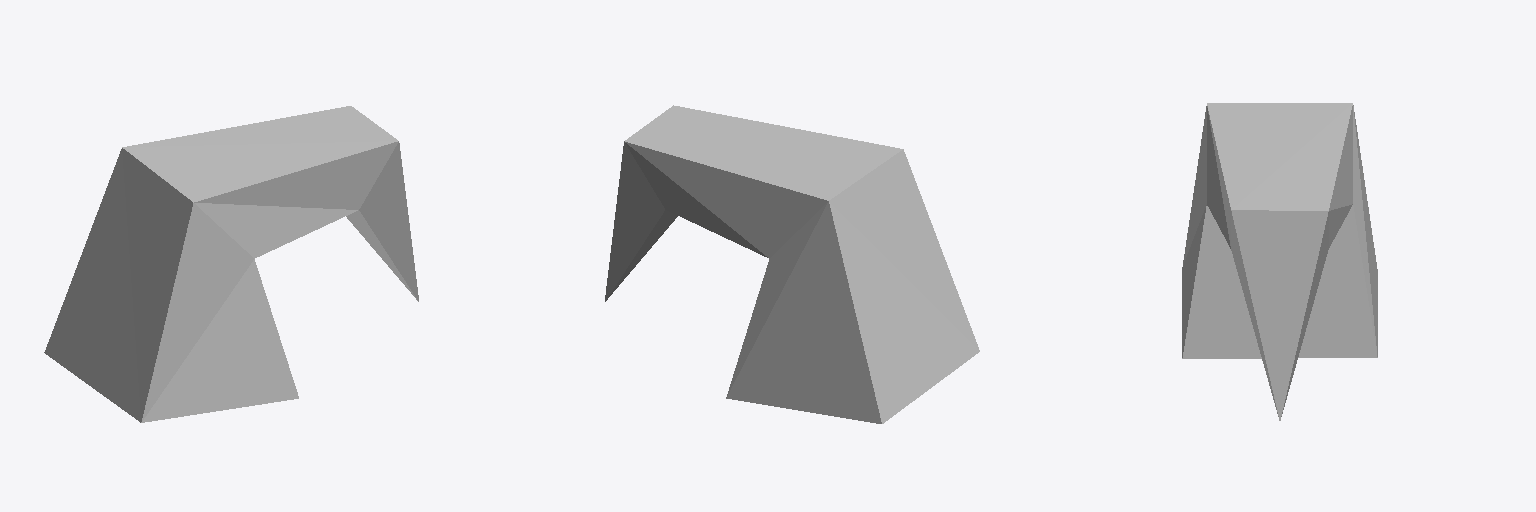
Rendered from skeletal_000023.obj.
3 renders of one model, left to right at view 1: azimuth 30°, elevation 25°; view 2: azimuth 150°, elevation 25°; view 3: azimuth 270°, elevation 25°, orthographic.
Visible parts, largest first — view 1: Cube; view 2: Cube; view 3: Cube.
Boxes of the visible parts, x1,y1,x2,y2 form: Cube: [44, 106, 418, 422]; Cube: [605, 105, 979, 423]; Cube: [1182, 103, 1377, 420].
Bounding box in the file's own units: 3.87 × 2.39 × 2.